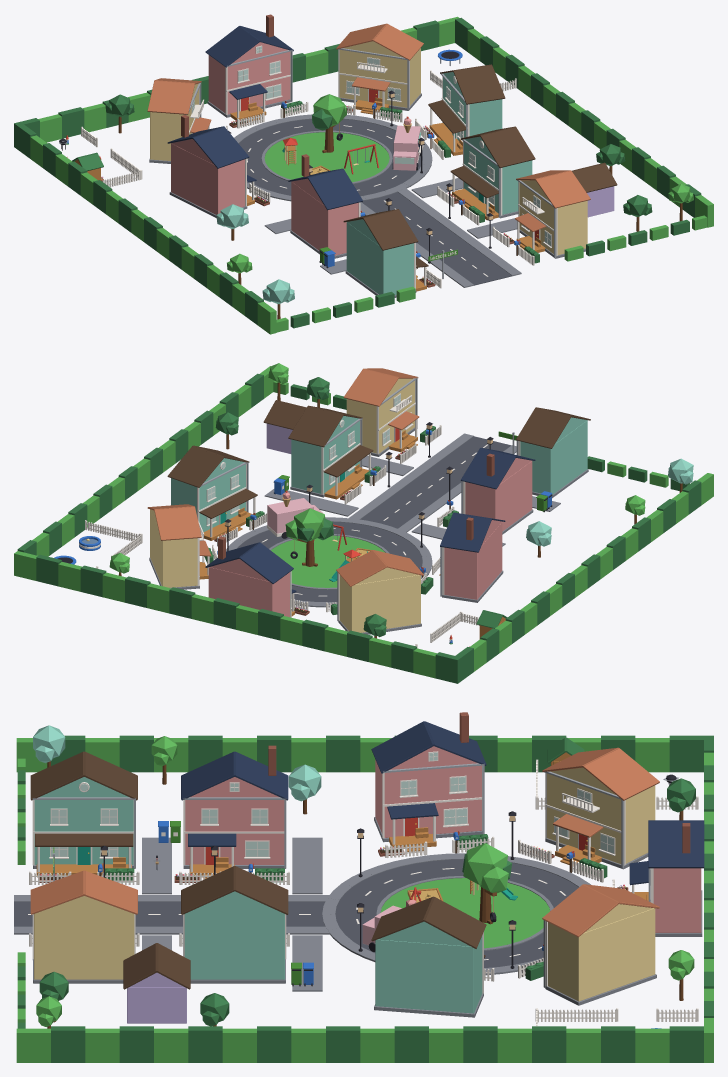
File: CatCafe_Neighbourhood_Set.fbx
The picture shows the model from 3 angles, top to bottom: view 1: azimuth 30°, elevation 25°; view 2: azimuth 150°, elevation 25°; view 3: azimuth 270°, elevation 25°; orthographic projection. The views are drawn at different scales.
Visible parts, largest first — view 1: CatCafe_Neighbourhood_Set_085_BorderHedge, CatCafe_Neighbourhood_Set, CatCafe_Neighbourhood_Set_024_HouseFrontA, CatCafe_Neighbourhood_Set_030_HouseFrontC, CatCafe_Neighbourhood_Set_048_HouseFrontA, CatCafe_Neighbourhood_Set_000_HouseFrontB, CatCafe_Neighbourhood_Set_006_HouseFrontC, CatCafe_Neighbourhood_Set_018_HouseFrontB, CatCafe_Neighbourhood_Set_012_HouseFrontA, CatCafe_Neighbourhood_Set_042_HouseFrontB, CatCafe_Neighbourhood_Set_086_Trees, CatCafe_Neighbourhood_Set_036_HouseFrontC (+3 smaller); view 2: CatCafe_Neighbourhood_Set_085_BorderHedge, CatCafe_Neighbourhood_Set, CatCafe_Neighbourhood_Set_018_HouseFrontB, CatCafe_Neighbourhood_Set_036_HouseFrontC, CatCafe_Neighbourhood_Set_042_HouseFrontB, CatCafe_Neighbourhood_Set_006_HouseFrontC, CatCafe_Neighbourhood_Set_048_HouseFrontA, CatCafe_Neighbourhood_Set_024_HouseFrontA, CatCafe_Neighbourhood_Set_000_HouseFrontB, CatCafe_Neighbourhood_Set_012_HouseFrontA, CatCafe_Neighbourhood_Set_030_HouseFrontC, CatCafe_Neighbourhood_Set_086_Trees (+3 smaller); view 3: CatCafe_Neighbourhood_Set_085_BorderHedge, CatCafe_Neighbourhood_Set, CatCafe_Neighbourhood_Set_048_HouseFrontA, CatCafe_Neighbourhood_Set_042_HouseFrontB, CatCafe_Neighbourhood_Set_030_HouseFrontC, CatCafe_Neighbourhood_Set_018_HouseFrontB, CatCafe_Neighbourhood_Set_036_HouseFrontC, CatCafe_Neighbourhood_Set_012_HouseFrontA, CatCafe_Neighbourhood_Set_000_HouseFrontB, CatCafe_Neighbourhood_Set_006_HouseFrontC, CatCafe_Neighbourhood_Set_024_HouseFrontA, CatCafe_Neighbourhood_Set_086_Trees (+8 smaller).
Part boxes in pixels (<box>): CatCafe_Neighbourhood_Set_085_BorderHedge: <box>14,16,713,334</box>; CatCafe_Neighbourhood_Set: <box>234,114,521,287</box>; CatCafe_Neighbourhood_Set_024_HouseFrontA: <box>205,14,293,121</box>; CatCafe_Neighbourhood_Set_030_HouseFrontC: <box>336,23,423,114</box>; CatCafe_Neighbourhood_Set_048_HouseFrontA: <box>167,114,256,217</box>; CatCafe_Neighbourhood_Set_000_HouseFrontB: <box>343,209,428,297</box>; CatCafe_Neighbourhood_Set_006_HouseFrontC: <box>515,170,590,258</box>; CatCafe_Neighbourhood_Set_018_HouseFrontB: <box>450,126,535,220</box>; CatCafe_Neighbourhood_Set_012_HouseFrontA: <box>288,154,362,258</box>; CatCafe_Neighbourhood_Set_042_HouseFrontB: <box>428,64,505,155</box>; CatCafe_Neighbourhood_Set_086_Trees: <box>105,94,693,319</box>; CatCafe_Neighbourhood_Set_036_HouseFrontC: <box>147,78,211,163</box>; CatCafe_Neighbourhood_Set_085_BorderHedge: <box>14,366,713,683</box>; CatCafe_Neighbourhood_Set: <box>226,433,560,607</box>; CatCafe_Neighbourhood_Set_018_HouseFrontB: <box>288,405,373,499</box>; CatCafe_Neighbourhood_Set_036_HouseFrontC: <box>336,550,423,634</box>; CatCafe_Neighbourhood_Set_042_HouseFrontB: <box>167,445,257,540</box>; CatCafe_Neighbourhood_Set_006_HouseFrontC: <box>343,368,419,456</box>; CatCafe_Neighbourhood_Set_048_HouseFrontA: <box>439,512,505,602</box>; CatCafe_Neighbourhood_Set_024_HouseFrontA: <box>205,536,296,617</box>; CatCafe_Neighbourhood_Set_000_HouseFrontB: <box>516,407,590,498</box>; CatCafe_Neighbourhood_Set_012_HouseFrontA: <box>460,448,535,534</box>; CatCafe_Neighbourhood_Set_030_HouseFrontC: <box>147,504,211,589</box>; CatCafe_Neighbourhood_Set_086_Trees: <box>109,363,693,638</box>; CatCafe_Neighbourhood_Set_085_BorderHedge: <box>16,735,713,1062</box>; CatCafe_Neighbourhood_Set: <box>14,837,590,991</box>; CatCafe_Neighbourhood_Set_048_HouseFrontA: <box>371,712,486,851</box>; CatCafe_Neighbourhood_Set_042_HouseFrontB: <box>371,896,486,1017</box>; CatCafe_Neighbourhood_Set_030_HouseFrontC: <box>542,884,659,1005</box>; CatCafe_Neighbourhood_Set_018_HouseFrontB: <box>181,866,288,983</box>; CatCafe_Neighbourhood_Set_036_HouseFrontC: <box>542,747,659,869</box>; CatCafe_Neighbourhood_Set_012_HouseFrontA: <box>181,745,288,879</box>; CatCafe_Neighbourhood_Set_000_HouseFrontB: <box>30,751,137,877</box>; CatCafe_Neighbourhood_Set_006_HouseFrontC: <box>30,870,137,983</box>; CatCafe_Neighbourhood_Set_024_HouseFrontA: <box>629,820,704,936</box>; CatCafe_Neighbourhood_Set_086_Trees: <box>33,725,695,1028</box>.
Bounding box in the file's own units: 139 × 23.51 × 140.
1 material, 1 textured.
